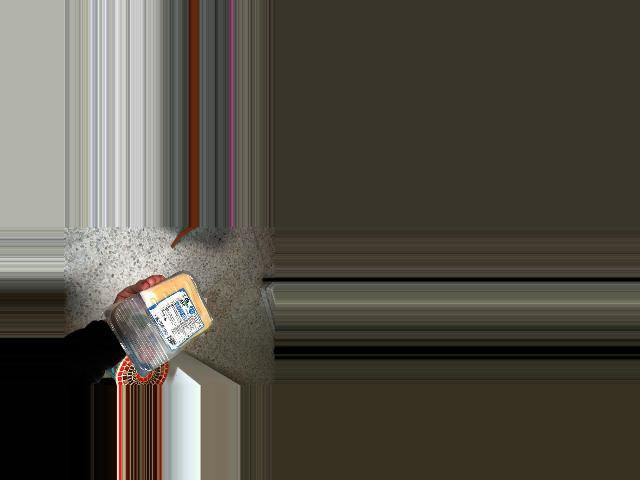cheese: (111, 282, 220, 372)
